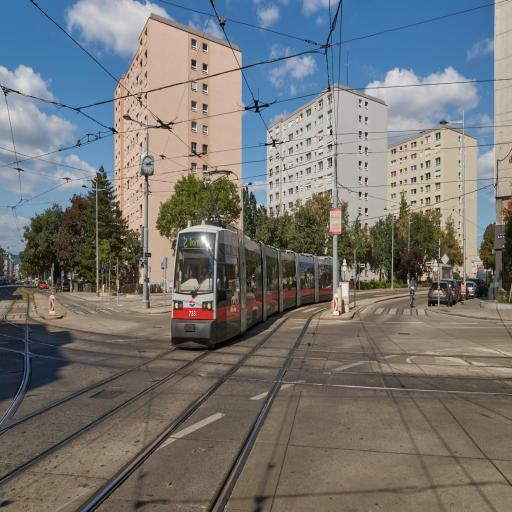ULF: (170, 217, 340, 354)
